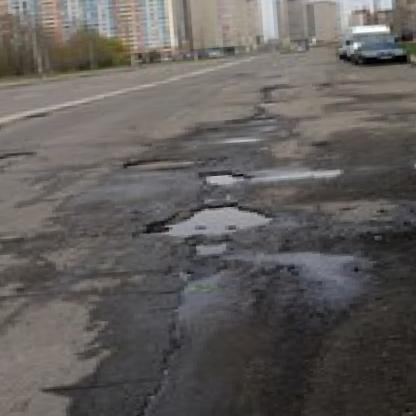pothole: (149, 199, 274, 240), (123, 154, 209, 171), (202, 169, 248, 188), (0, 150, 30, 167)
